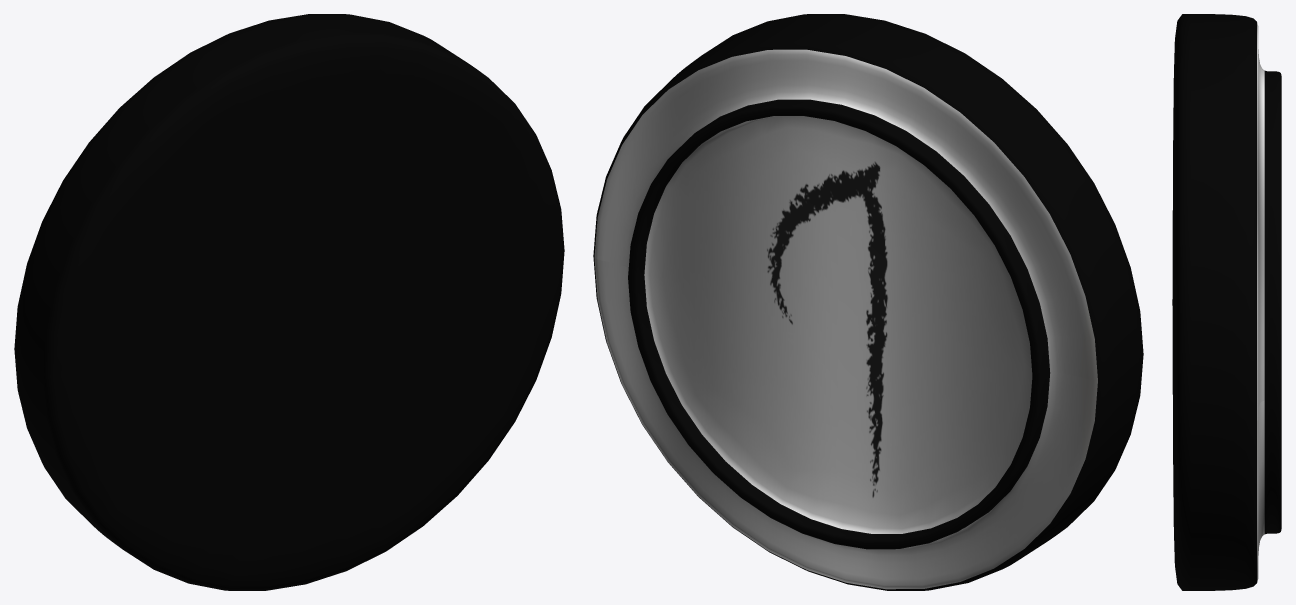
File: MON.FBX
3 renders of one model, left to right at view 1: azimuth 30°, elevation 25°; view 2: azimuth 150°, elevation 25°; view 3: azimuth 270°, elevation 25°, orthographic. The views are drawn at different scales.
Visible parts, largest first — view 1: buton10; view 2: buton10; view 3: buton10.
Boxes of the visible parts, box(x1,y1,x2,y2) form: buton10: box(14, 14, 564, 590); buton10: box(593, 14, 1143, 590); buton10: box(1172, 14, 1281, 590).
Bounding box in the file's own units: 4.98 × 4.98 × 0.9397.
3 materials, 1 textured.
